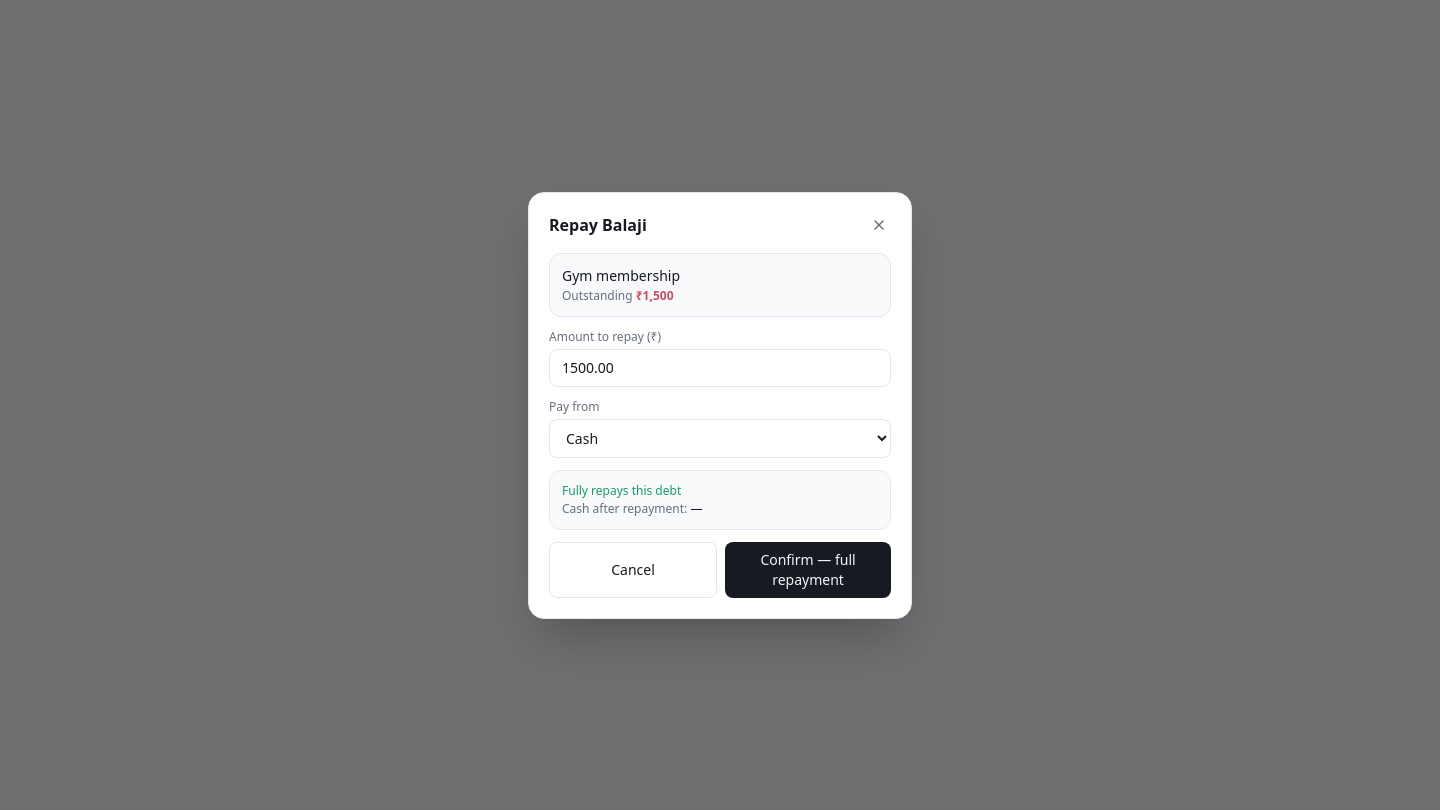
Test: RepayDebtModal › surfaces server errors without closing the modal
Expected: the field labelled "Amount to repay (₹)" is shown, [549,348,891,386]
Click the button "Confirm — full repayment": (808, 570) [725,542,891,598]
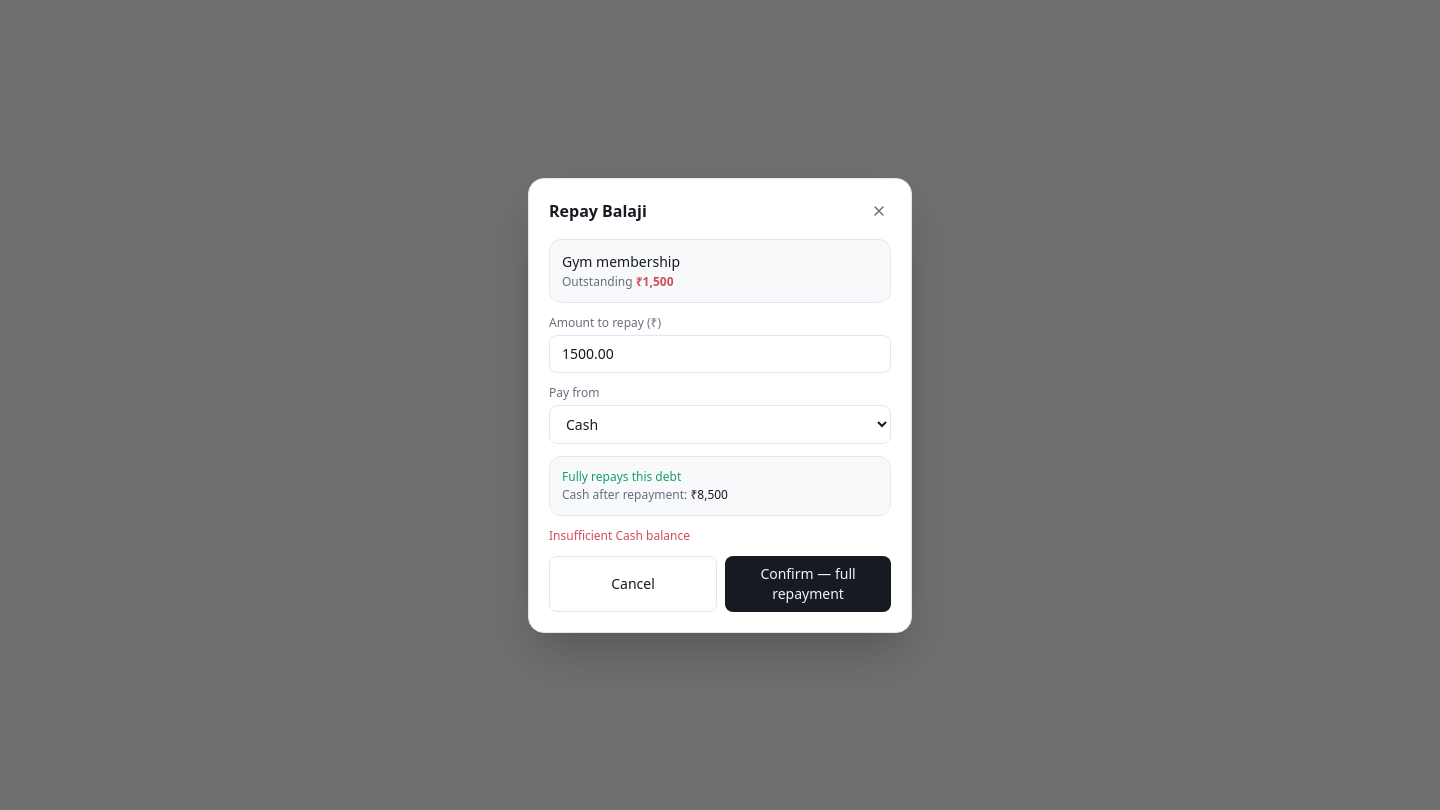
Now the text "Insufficient Cash balance" is shown, box [549,526,690,544]
